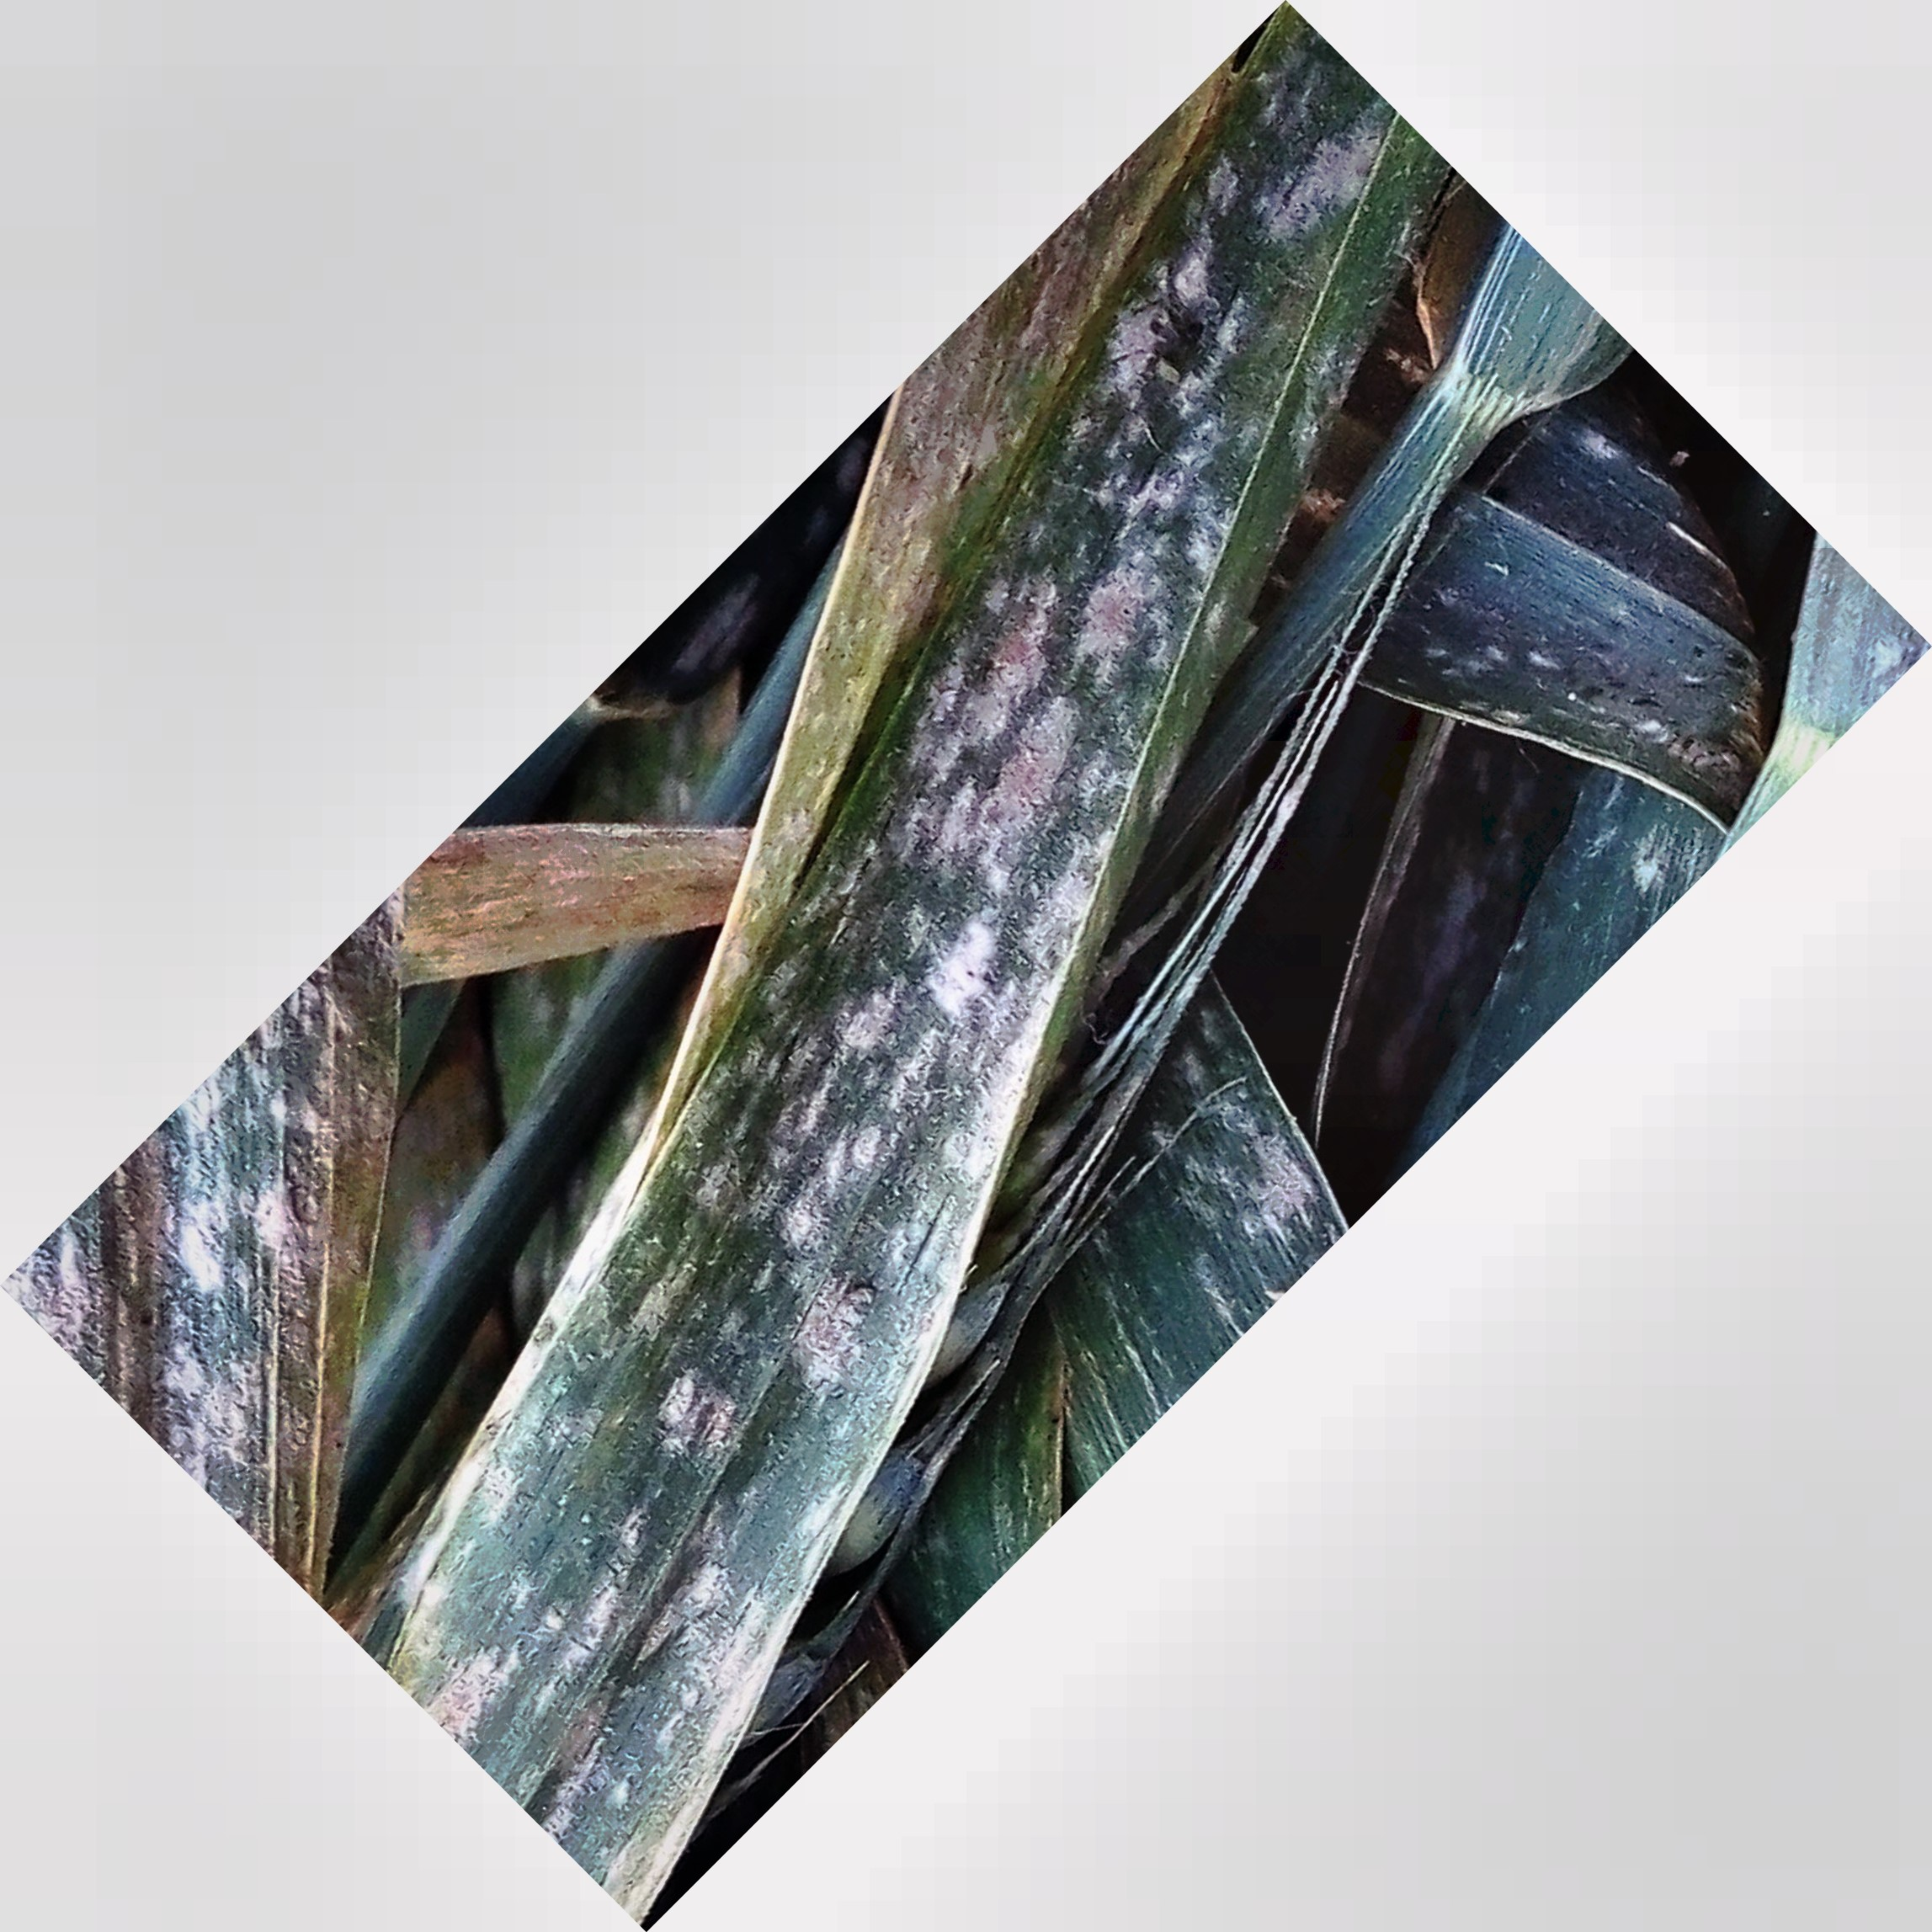Powdery Mildew: (725, 354, 1269, 1343)
